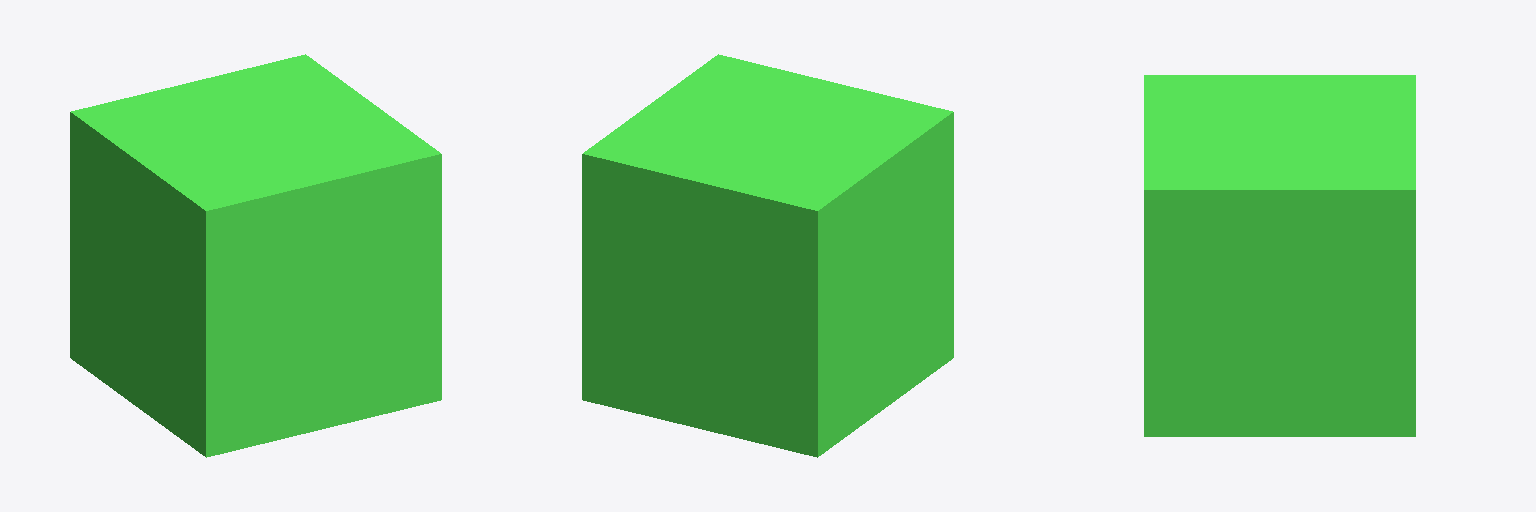
The picture shows the model from 3 angles: view 1: azimuth 30°, elevation 25°; view 2: azimuth 150°, elevation 25°; view 3: azimuth 270°, elevation 25°; orthographic projection.
Visible parts, largest first — view 1: Cube; view 2: Cube; view 3: Cube.
Part boxes in pixels (x1,y1,x2,y2): Cube: (70, 54, 441, 457); Cube: (582, 54, 953, 457); Cube: (1144, 75, 1415, 436).
Bounding box in the file's own units: 2 × 2 × 2.
Materials: 1 (1 with a texture image).